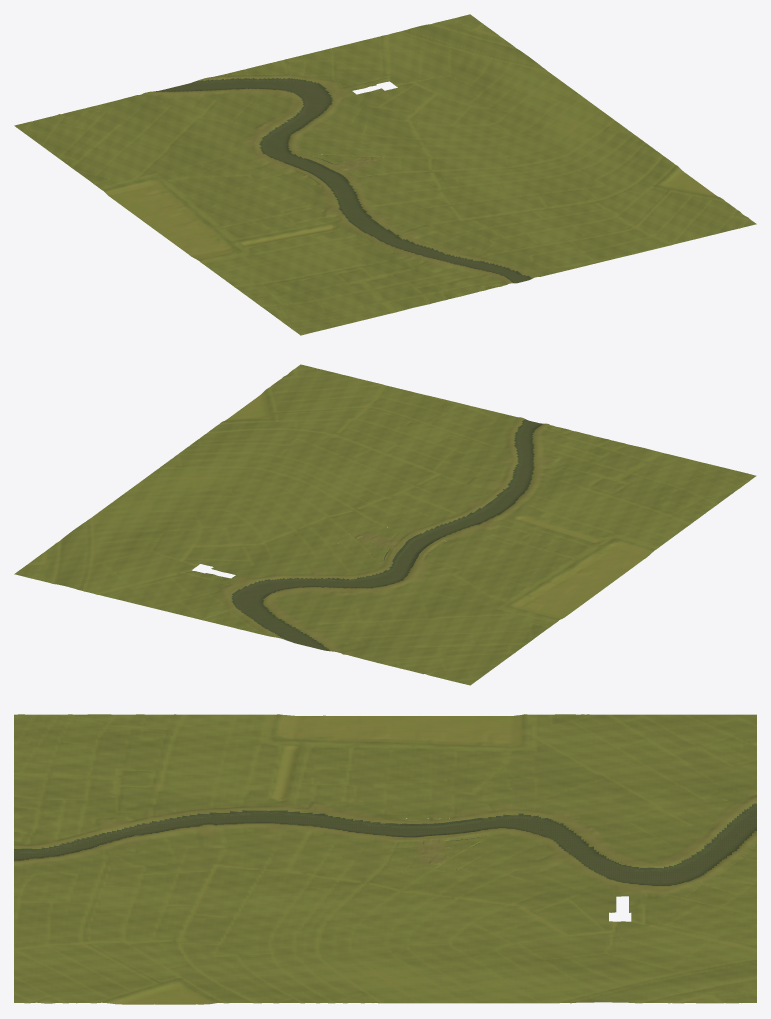
The model's file is terrain.glb.
The picture shows the model from 3 angles, top to bottom: view 1: azimuth 30°, elevation 25°; view 2: azimuth 150°, elevation 25°; view 3: azimuth 270°, elevation 25°; orthographic projection. The views are drawn at different scales.
Parts seen in each view (by area): view 1: land_polder; view 2: land_polder; view 3: land_polder.
Part boxes in pixels (left/top/right/bottom): land_polder: left=14, top=14, right=756, bottom=335; land_polder: left=14, top=364, right=756, bottom=685; land_polder: left=14, top=714, right=756, bottom=1004.
Bounding box in the file's own units: 1360 × 8.55 × 1480.
2 materials, 2 textured.
